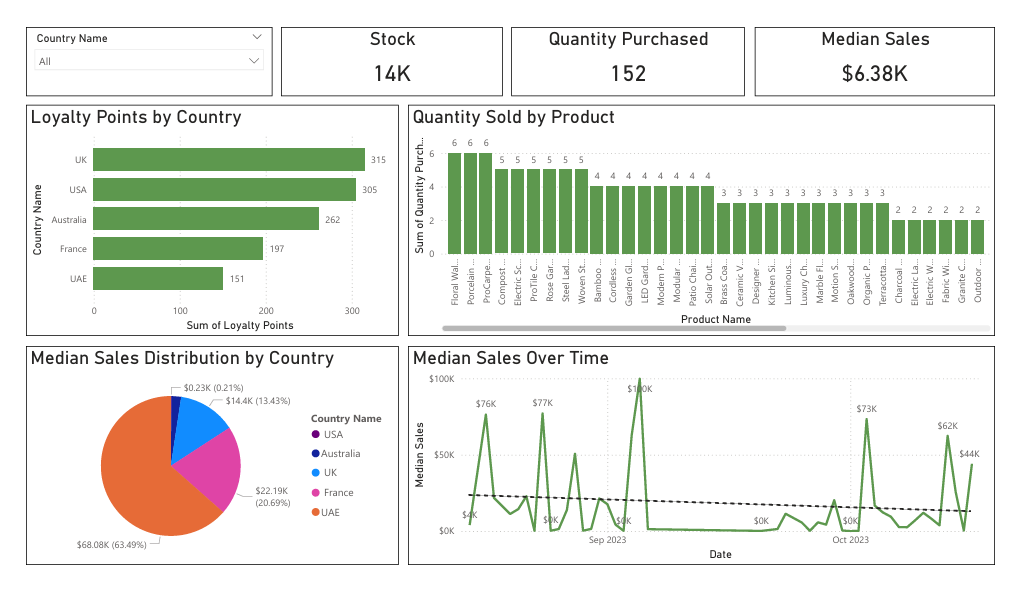

This screenshot's page, from the dashboard's own definition file:
{"tool":"powerbi","page":{"name":"Sales Overview","canvas":[1280,720],"ordinal":0},"visuals":[{"type":"clusteredBarChart","title":"Loyalty Points by Country","fields":{"Y":["Sum(Sales. Loyalty Points)"],"Category":["Sales in USD.Country Name"]},"box":[10.9,112,483.7,300.2],"z":0},{"type":"clusteredColumnChart","title":"Quantity Sold by  Product","fields":{"Category":["Sales in USD.Product Name"],"Y":["Sum(Sales in USD.Quantity Purchased)"]},"box":[507,112,762.1,300.2],"z":1000},{"type":"pieChart","title":"Median Sales  Distribution by Country","fields":{"Category":["Sales in USD.Country Name"],"Y":["Sales in USD.Median Sales"]},"box":[10.9,424.6,483.7,284.6],"z":2000},{"type":"lineChart","title":"Median Sales  Over Time","fields":{"Category":["Calendar.Date"],"Y":["Sales in USD.Median Sales"]},"box":[507,424.6,762.1,284.6],"z":3000},{"type":"card","title":"Stock","fields":{"Values":["Sum(Sales in USD. Stock  )"]},"box":[342.2,10.9,287.7,90.2],"z":4000},{"type":"card","title":"Quantity Purchased","fields":{"Values":["Sum(Sales in USD.Quantity Purchased)"]},"box":[640.8,10.9,303.3,90.2],"z":5000},{"type":"card","title":"Median Sales","fields":{"Values":["Sales in USD.Median Sales"]},"box":[956.5,10.9,312.6,90.2],"z":6000},{"type":"slicer","fields":{"Values":["Sales in USD.Country Name"]},"box":[10.9,10.9,320.4,90.2],"z":7000}]}

Visuals, with their boxes in screenshot pixels (x1, y1, x2, y2), scaled from the page's 1280x720 canvas onto the 1021x592 screenshot:
"Loyalty Points by Country" clusteredBarChart: 9:92:395:339
"Quantity Sold by  Product" clusteredColumnChart: 404:92:1012:339
"Median Sales  Distribution by Country" pieChart: 9:349:395:583
"Median Sales  Over Time" lineChart: 404:349:1012:583
"Stock" card: 273:9:502:83
"Quantity Purchased" card: 511:9:753:83
"Median Sales" card: 763:9:1012:83
slicer - Sales in USD.Country Name: 9:9:264:83
